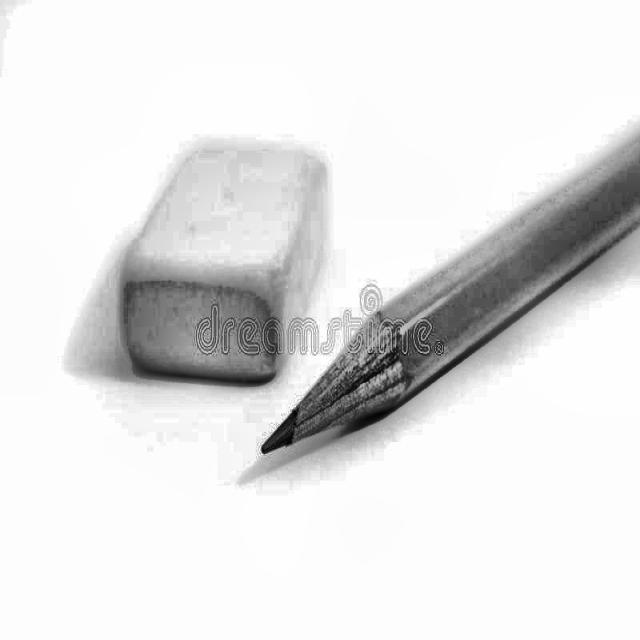eraser: (131, 96, 335, 406)
